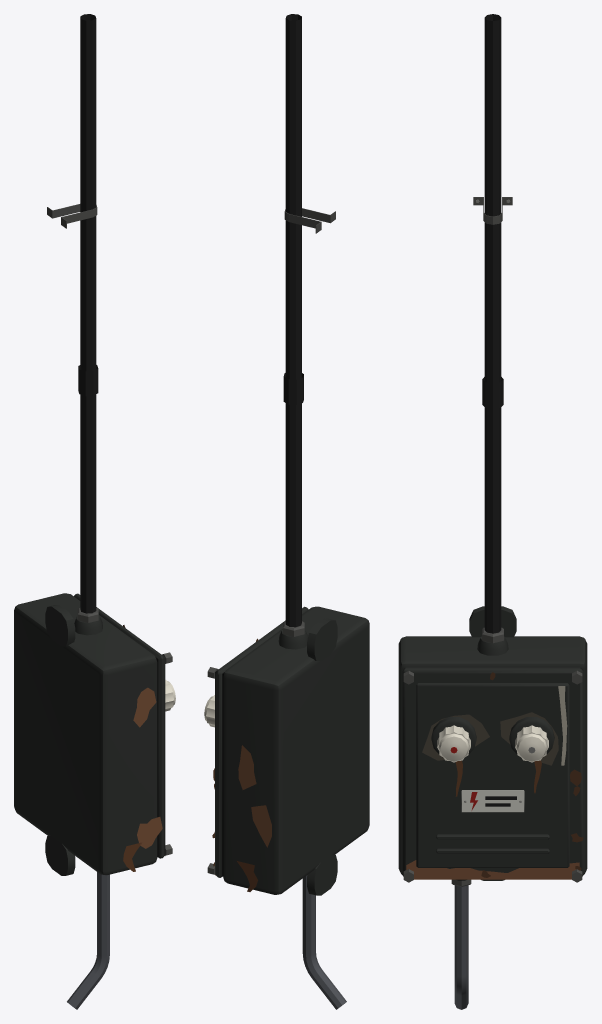
Rendered from junction_box@1.glb.
The picture shows the model from 3 angles, left to right: view 1: azimuth 30°, elevation 25°; view 2: azimuth 150°, elevation 25°; view 3: azimuth 270°, elevation 25°; orthographic projection. The views are drawn at different scales.
Visible parts, largest first — view 1: gussverteiler0, gussverteiler12, gussverteiler13, gussverteiler16, gussverteiler4; view 2: gussverteiler0, gussverteiler12, gussverteiler13, gussverteiler16, gussverteiler4, gussverteiler3; view 3: gussverteiler0, gussverteiler12, gussverteiler5, gussverteiler16, gussverteiler13, gussverteiler7, gussverteiler9, gussverteiler4.
Part boxes in pixels (<box>): gussverteiler0: <box>14,593,165,875</box>; gussverteiler12: <box>78,14,98,613</box>; gussverteiler13: <box>67,872,109,1009</box>; gussverteiler16: <box>133,687,162,848</box>; gussverteiler4: <box>47,204,172,855</box>; gussverteiler0: <box>215,606,369,895</box>; gussverteiler12: <box>283,14,303,627</box>; gussverteiler13: <box>302,875,346,1009</box>; gussverteiler16: <box>215,745,271,875</box>; gussverteiler4: <box>207,208,335,874</box>; gussverteiler3: <box>222,672,224,876</box>; gussverteiler0: <box>398,606,587,880</box>; gussverteiler12: <box>482,14,503,633</box>; gussverteiler5: <box>437,725,548,762</box>; gussverteiler16: <box>406,860,579,879</box>; gussverteiler13: <box>454,885,468,1009</box>; gussverteiler7: <box>422,712,558,765</box>; gussverteiler9: <box>461,790,524,812</box>; gussverteiler4: <box>403,197,582,886</box>.
Size of the model in its own units: 0.1906 by 1.77 by 0.3018.
